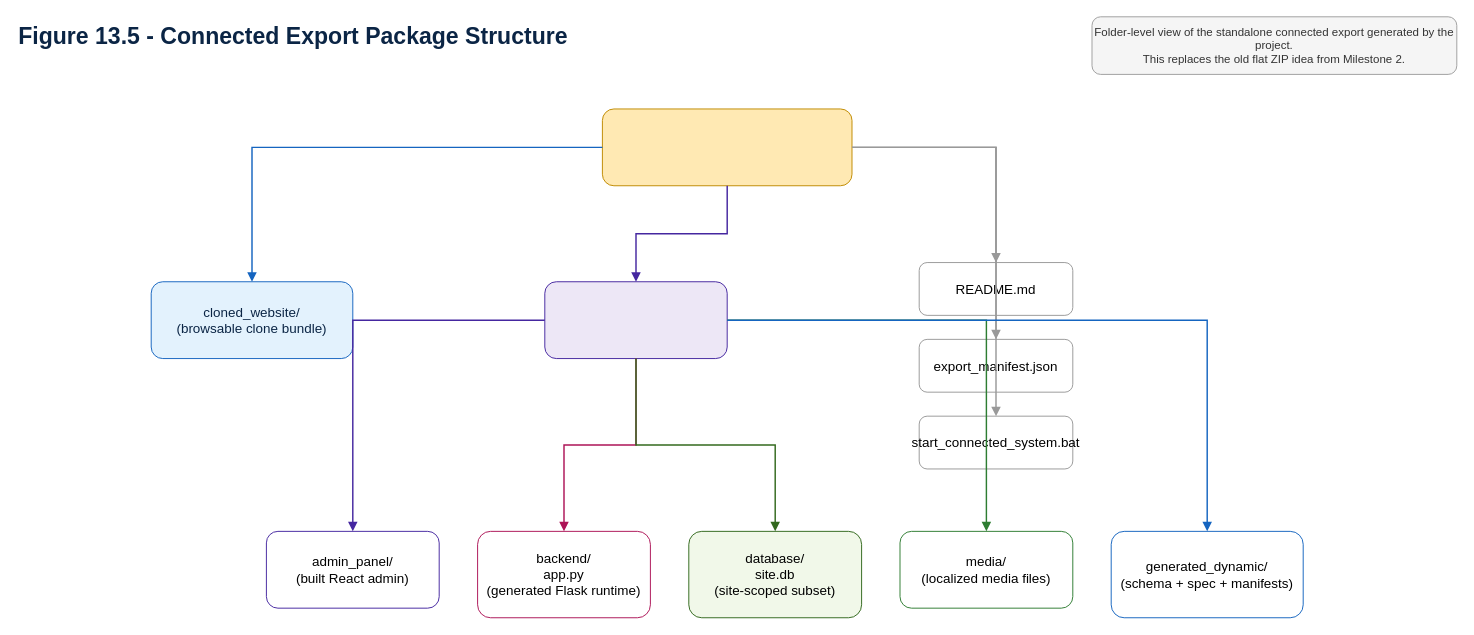
The diagram is 1474 pixels wide and 635 high, and some of its shapes have lost their labels. The shapes that lost their labels are listed below. From the top down, each one's centre as x and y in pixels, then its label:
At (x=726, y=147): "connected_system/ (package root)".
At (x=635, y=320): "admin_system/".
